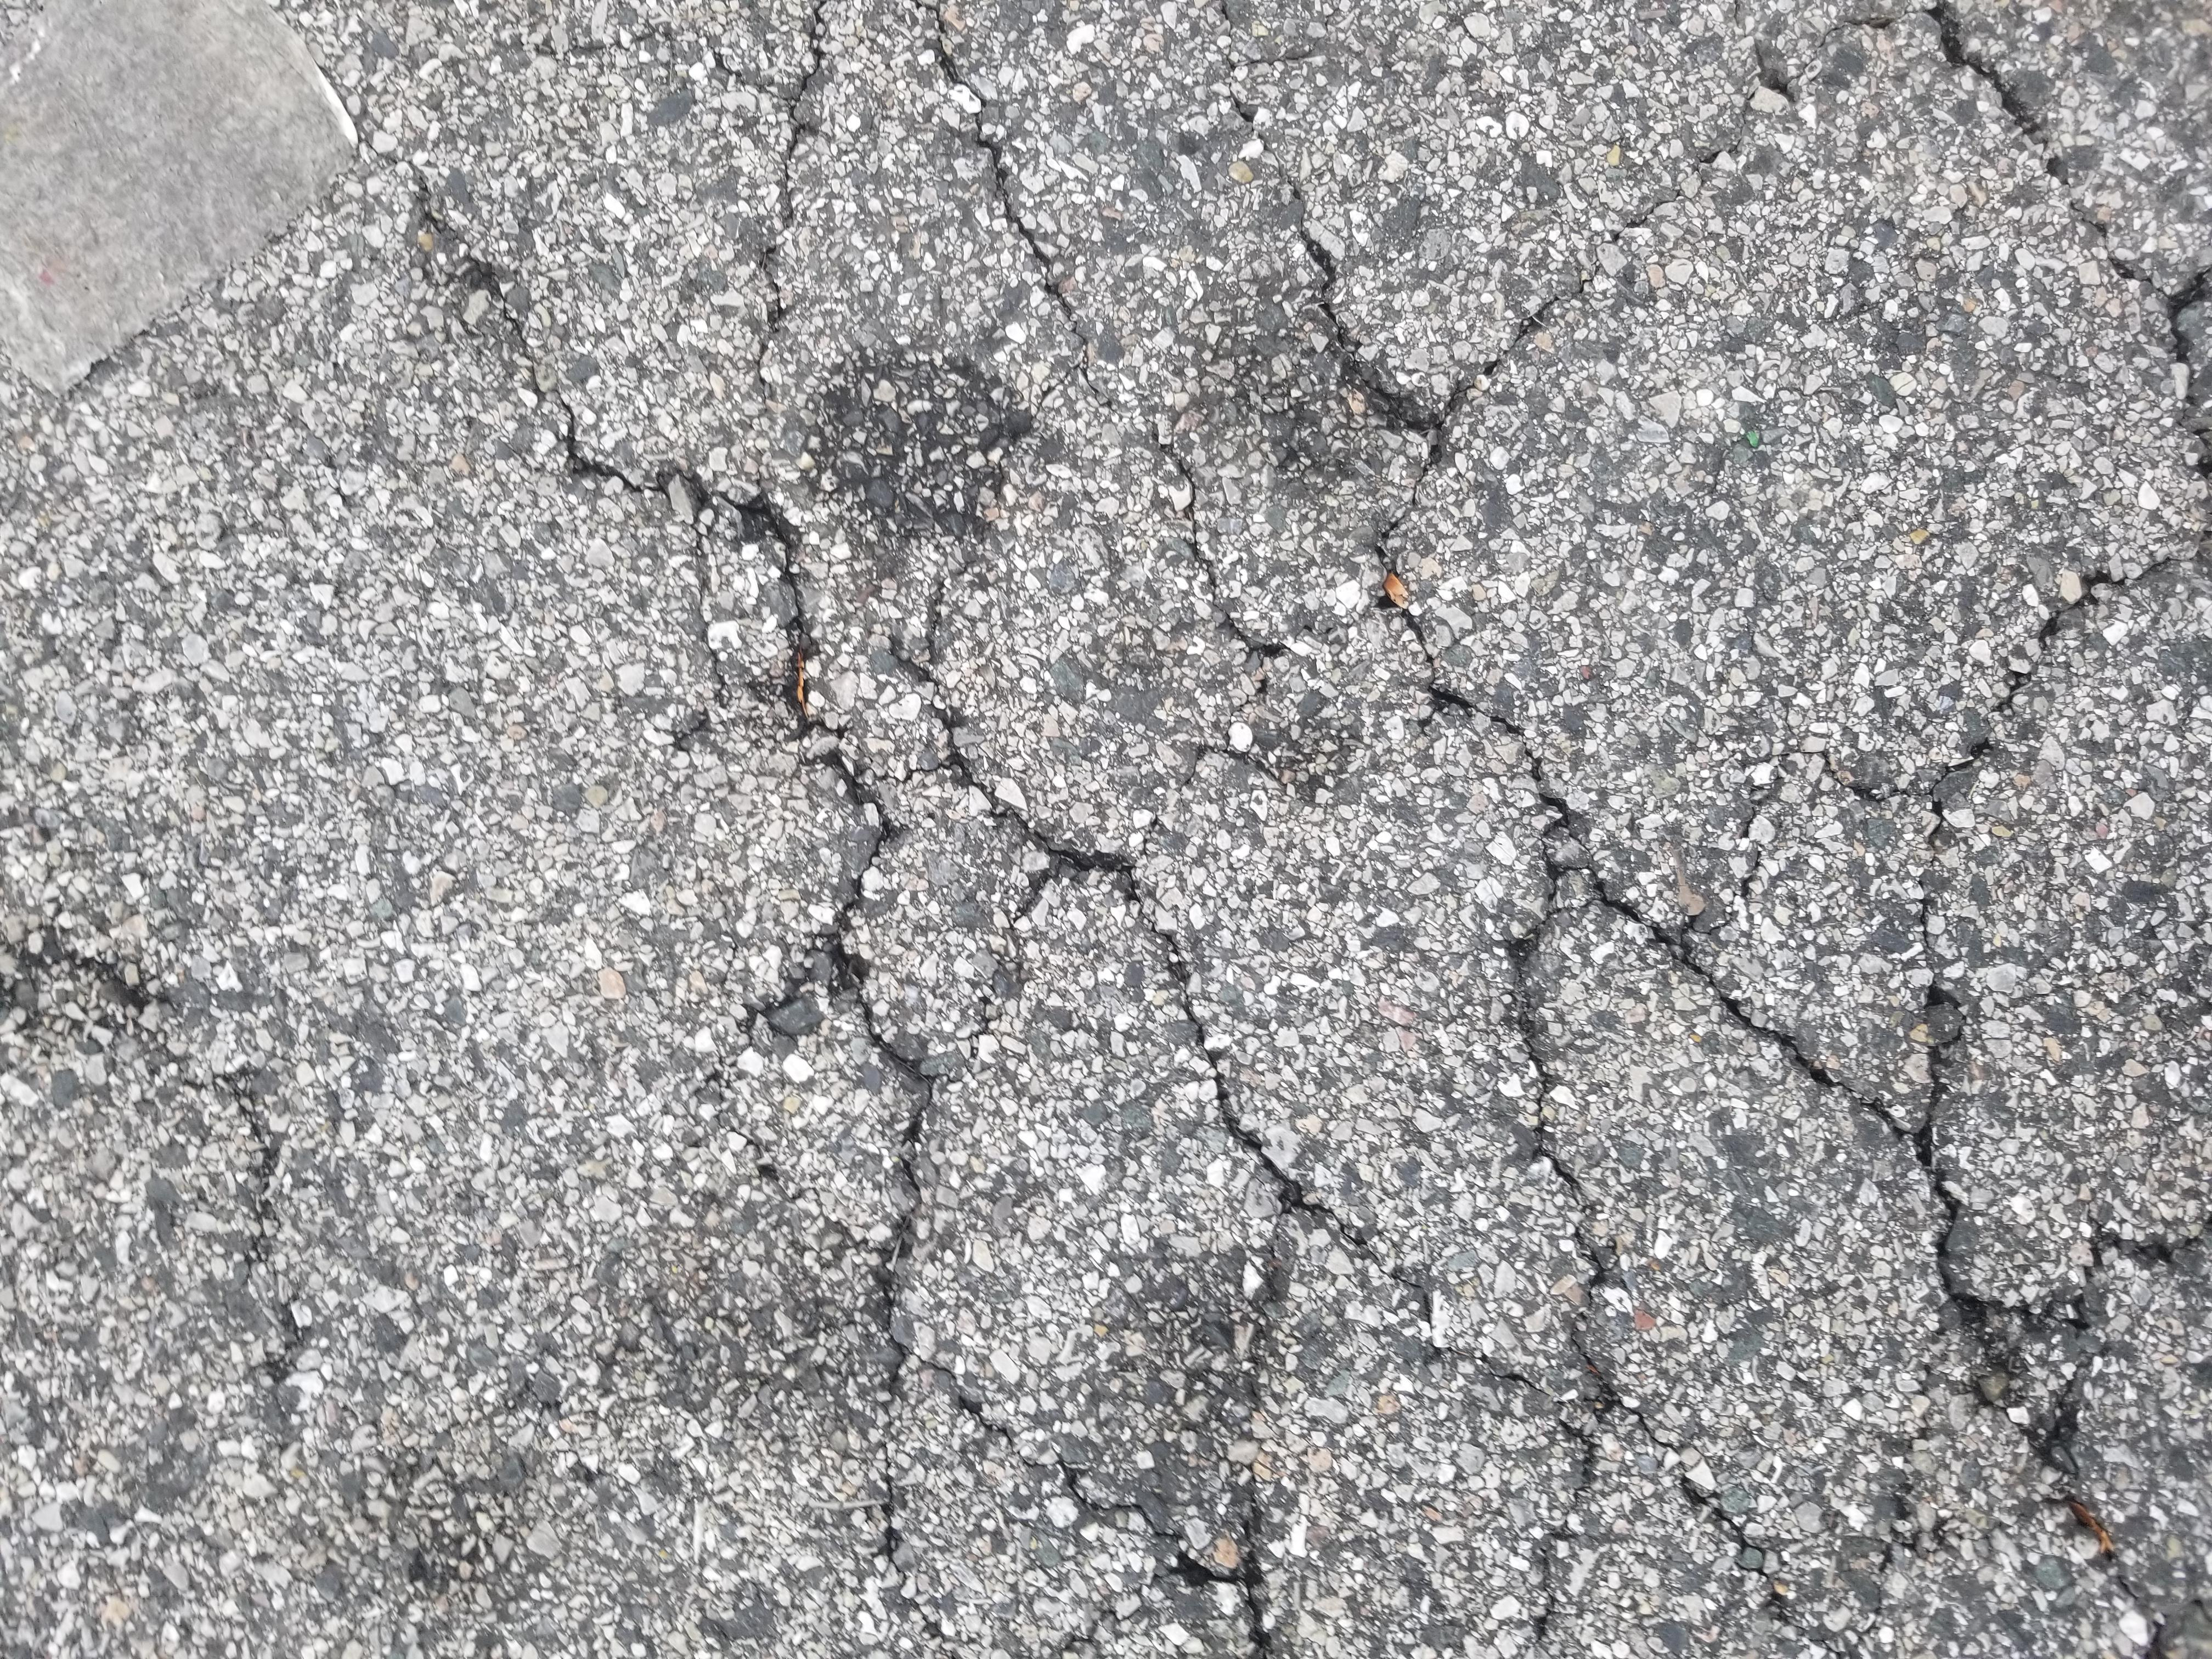alligator-crack: (0, 274, 2212, 1659)
